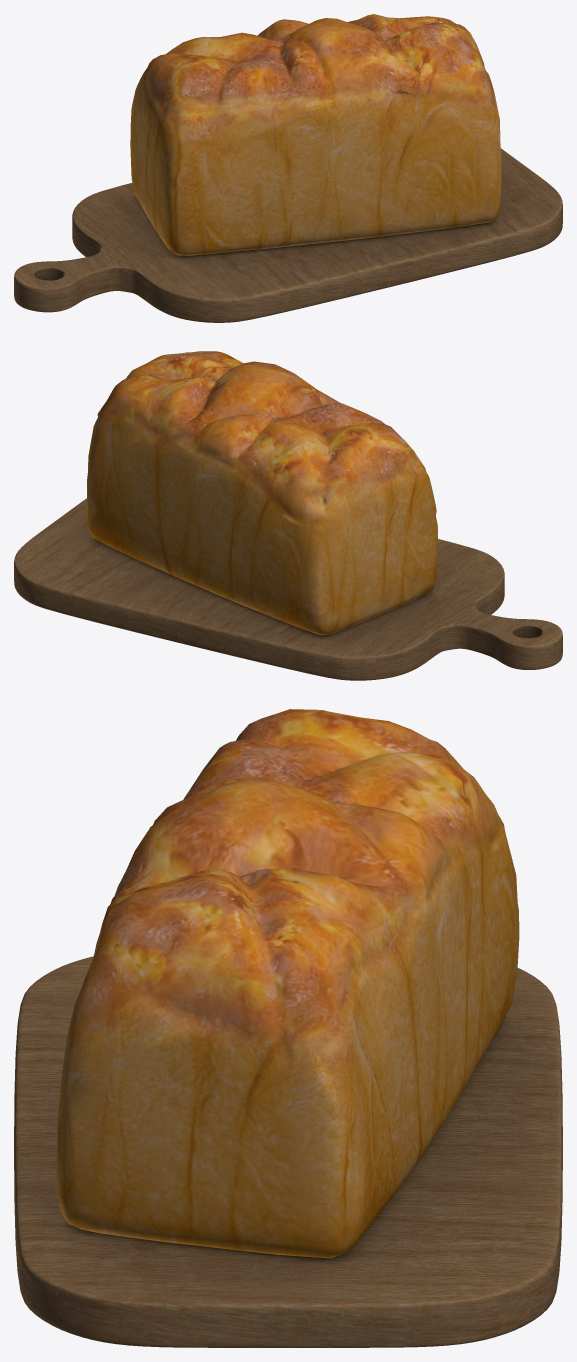
Rendered from asset.glb.
3 views of the same model, one above another, from view 1: azimuth 30°, elevation 25°; view 2: azimuth 150°, elevation 25°; view 3: azimuth 270°, elevation 25° (orthographic). The views are drawn at different scales.
Visible parts, largest first — view 1: bread_0, ban_Baked_1; view 2: bread_0, ban_Baked_1; view 3: bread_0, ban_Baked_1.
Boxes of the visible parts, left/top/right/bottom form: bread_0: left=130, top=14, right=501, bottom=255; ban_Baked_1: left=14, top=148, right=562, bottom=322; bread_0: left=87, top=351, right=437, bottom=635; ban_Baked_1: left=14, top=498, right=562, bottom=680; bread_0: left=56, top=709, right=519, bottom=1258; ban_Baked_1: left=14, top=956, right=562, bottom=1347.
Size of the model in its own units: 2.35 by 0.9466 by 1.23.
Materials: 2 (2 with a texture image).
